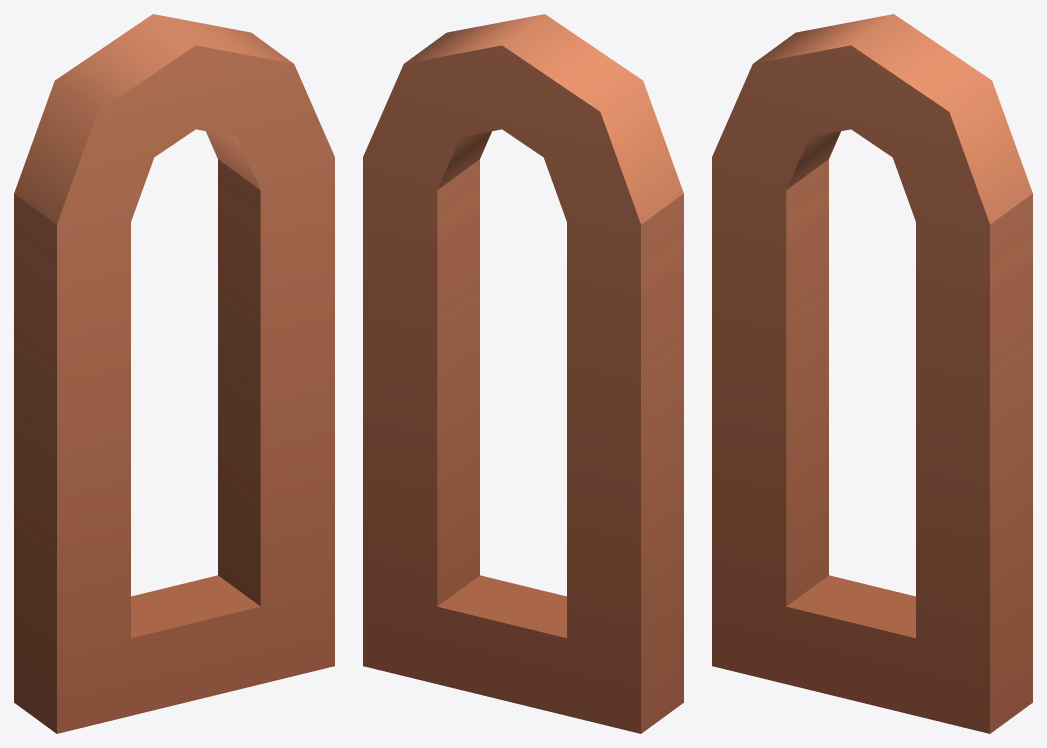
The model's file is window-brown-round-narrow.glb.
3 renders of one model, left to right at view 1: azimuth 30°, elevation 25°; view 2: azimuth 150°, elevation 25°; view 3: azimuth 330°, elevation 25°, orthographic.
Visible parts, largest first — view 1: window-brown-round-narrow; view 2: window-brown-round-narrow; view 3: window-brown-round-narrow.
Boxes of the visible parts, x1,y1,x2,y2 form: window-brown-round-narrow: (14, 14, 334, 733); window-brown-round-narrow: (363, 14, 683, 733); window-brown-round-narrow: (712, 14, 1032, 733).
Size of the model in its own units: 0.1875 by 0.4219 by 0.05.
1 material, 1 textured.
